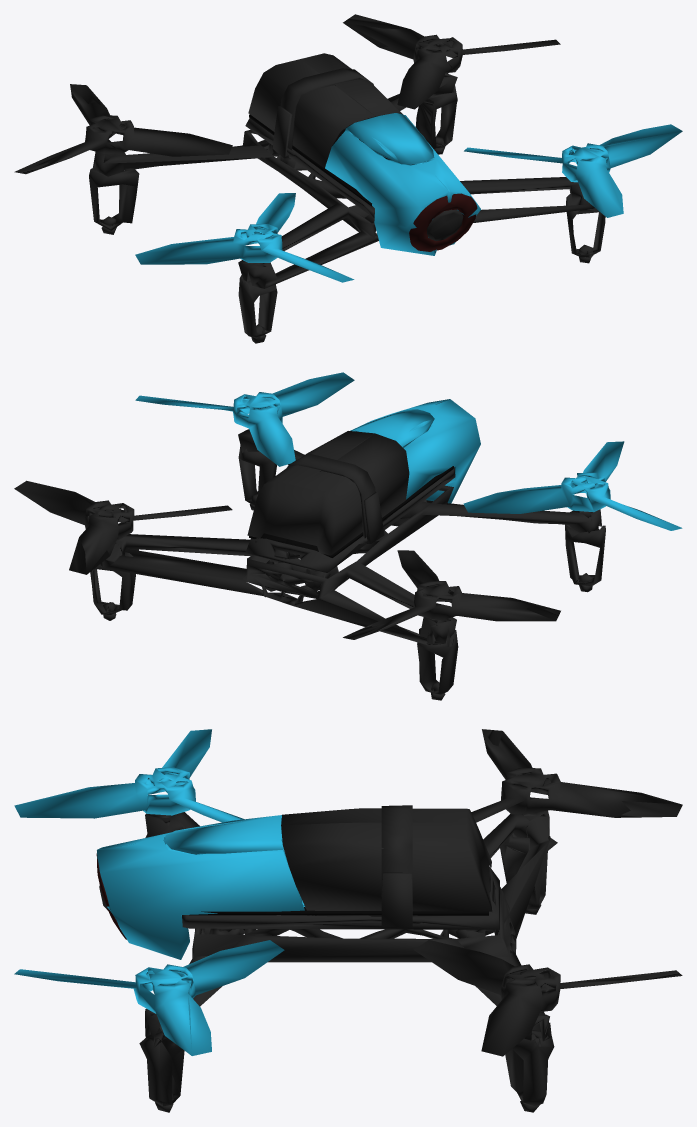
Rendered from Perfect_Drone.fbx.
3 renders of one model, top to bottom at view 1: azimuth 30°, elevation 25°; view 2: azimuth 150°, elevation 25°; view 3: azimuth 270°, elevation 25°, orthographic. The views are drawn at different scales.
Visible parts, largest first — view 1: frame, nose, battery, propeller_rl, propeller_fr, propeller_fl, propeller_rr, top, strap, lens_ring, pad_rr, pad_rl (+5 smaller); view 2: frame, battery, propeller_rr, propeller_fr, propeller_rl, propeller_fl, nose, frame_inside, strap, pad_rr, top, pad_fr (+3 smaller); view 3: battery, nose, frame, propeller_fl, propeller_rl, propeller_fr, propeller_rr, frame_inside, strap, top, pad_rl, pad_fl (+2 smaller).
Boxes of the visible parts, box(x1,y1,x2,y2) form: frame: box(92, 73, 594, 288); nose: box(325, 115, 481, 255); battery: box(248, 53, 403, 167); propeller_rl: box(343, 14, 560, 109); propeller_fr: box(135, 193, 354, 282); propeller_fl: box(464, 124, 682, 217); propeller_rr: box(14, 84, 232, 174); top: box(339, 113, 434, 164); strap: box(272, 68, 373, 158); lens_ring: box(409, 193, 477, 251); pad_rr: box(89, 168, 139, 234); pad_rl: box(415, 85, 457, 154); frame: box(100, 429, 601, 645); battery: box(247, 431, 409, 555); propeller_rr: box(343, 550, 560, 639); propeller_fr: box(463, 441, 682, 530); propeller_rl: box(14, 480, 232, 574); propeller_fl: box(135, 372, 354, 466); nose: box(403, 399, 480, 503); frame_inside: box(245, 467, 455, 572); strap: box(287, 453, 384, 543); pad_rr: box(417, 628, 458, 700); top: box(350, 409, 434, 447); pad_fr: box(565, 524, 605, 592); battery: box(281, 808, 492, 911); nose: box(97, 832, 304, 959); frame: box(145, 810, 551, 1041); propeller_fl: box(14, 940, 284, 1055); propeller_rl: box(413, 940, 682, 1056); propeller_fr: box(14, 729, 244, 822); propeller_rr: box(471, 729, 682, 822); frame_inside: box(182, 866, 499, 931); strap: box(381, 805, 412, 927); top: box(165, 815, 302, 902); pad_rl: box(505, 1030, 554, 1112); pad_fl: box(139, 1031, 184, 1112).
Bounding box in the file's own units: 3.23 × 0.8806 × 2.8.
